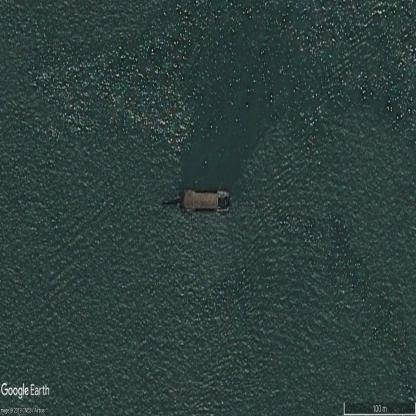ship: (160, 184, 230, 213)
